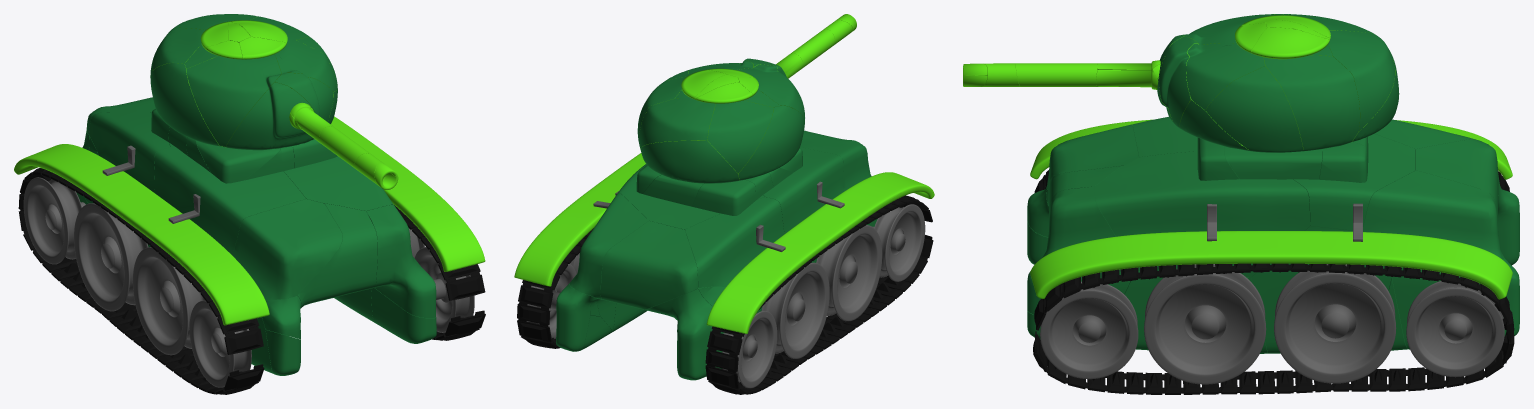
The model's file is FracturedTank - Don Juan.fbx.
3 renders of one model, left to right at view 1: azimuth 30°, elevation 25°; view 2: azimuth 150°, elevation 25°; view 3: azimuth 270°, elevation 25°, orthographic. The views are drawn at different scales.
Parts seen in each view (by area): view 1: Plane.001_cell.012, Plane.001_cell.009, Track Shield, Cylinder.001_cell.009, Wheels.014, Wheels.012, Plane.001_cell.013, Plane.001_cell.019, Wheels.008, Plane.001_cell.023, Plane.001_cell.004, Cylinder.001_cell.006 (+37 smaller); view 2: Plane.001_cell.018, Track Shield, Plane.001_cell.023, Wheels.012, Wheels.014, Track Shield.001, Plane.001_cell.009, Plane.001_cell.007, Cylinder.001_cell.005, Cylinder.001_cell.010, Plane.001_cell.011, Cylinder.001_cell.001 (+34 smaller); view 3: Plane.001_cell.004, Wheels.006, Wheels.004, Track Shield.001, Plane.001_cell.007, Wheels, Wheels.002, Cylinder.001_cell, Cylinder.001_cell.003, Plane.001_cell.006, Cylinder.001_cell.001, Plane.001_cell.013 (+37 smaller).
Boxes of the visible parts, bbox=[...] form: Plane.001_cell.012: bbox=[232, 199, 342, 299]; Plane.001_cell.009: bbox=[154, 147, 305, 254]; Track Shield: bbox=[14, 144, 269, 325]; Cylinder.001_cell.009: bbox=[186, 54, 281, 146]; Wheels.014: bbox=[74, 203, 148, 311]; Wheels.012: bbox=[132, 247, 205, 355]; Plane.001_cell.013: bbox=[366, 205, 436, 317]; Plane.001_cell.019: bbox=[297, 203, 377, 308]; Wheels.008: bbox=[23, 177, 81, 264]; Plane.001_cell.023: bbox=[89, 112, 169, 192]; Plane.001_cell.004: bbox=[284, 156, 393, 210]; Cylinder.001_cell.006: bbox=[226, 82, 315, 150]; Plane.001_cell.018: bbox=[600, 221, 698, 309]; Track Shield: bbox=[706, 174, 934, 333]; Plane.001_cell.023: bbox=[685, 197, 784, 287]; Wheels.012: bbox=[816, 225, 882, 321]; Wheels.014: bbox=[761, 262, 829, 358]; Track Shield.001: bbox=[514, 156, 645, 286]; Plane.001_cell.009: bbox=[763, 147, 843, 233]; Plane.001_cell.007: bbox=[569, 192, 648, 299]; Cylinder.001_cell.005: bbox=[641, 140, 739, 183]; Cylinder.001_cell.010: bbox=[707, 100, 773, 173]; Plane.001_cell.011: bbox=[645, 289, 723, 380]; Cylinder.001_cell.001: bbox=[639, 98, 715, 149]; Plane.001_cell.004: bbox=[1094, 151, 1310, 277]; Wheels.006: bbox=[1274, 264, 1396, 383]; Wheels.004: bbox=[1144, 264, 1266, 384]; Track Shield.001: bbox=[1030, 231, 1512, 299]; Plane.001_cell.007: bbox=[1363, 170, 1503, 259]; Wheels: bbox=[1406, 281, 1504, 377]; Wheels.002: bbox=[1040, 281, 1138, 379]; Cylinder.001_cell: bbox=[1263, 55, 1359, 151]; Cylinder.001_cell.003: bbox=[1205, 66, 1303, 152]; Plane.001_cell.006: bbox=[1293, 134, 1415, 230]; Cylinder.001_cell.001: bbox=[1328, 30, 1394, 131]; Plane.001_cell.013: bbox=[1027, 186, 1130, 314].
Bounding box in the file's own units: 247 × 248 × 414.
